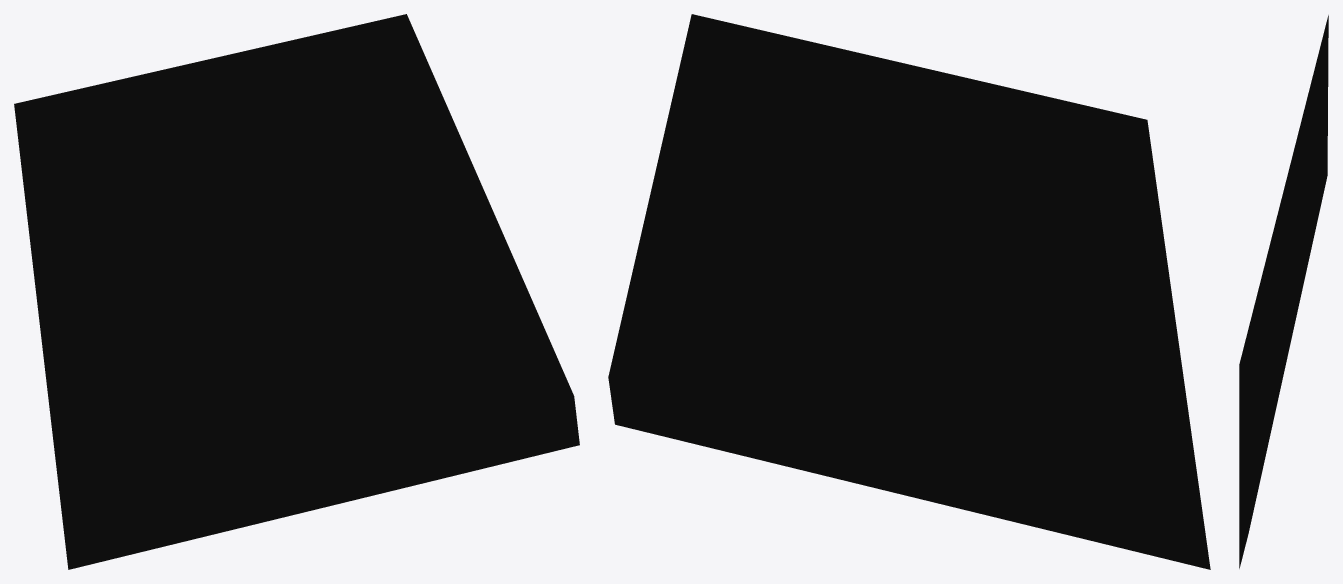
3 renders of one model, left to right at view 1: azimuth 30°, elevation 25°; view 2: azimuth 150°, elevation 25°; view 3: azimuth 270°, elevation 25°, orthographic. The views are drawn at different scales.
Parts seen in each view (by area): view 1: 6; view 2: 6; view 3: 6.
Part boxes in pixels (x1,y1,x2,y2): 6: (14, 14, 579, 569); 6: (608, 14, 1210, 569); 6: (1239, 15, 1328, 568).
Size of the model in its own units: 6581 by 5241 by 1210.
Materials: 1 (1 with a texture image).
